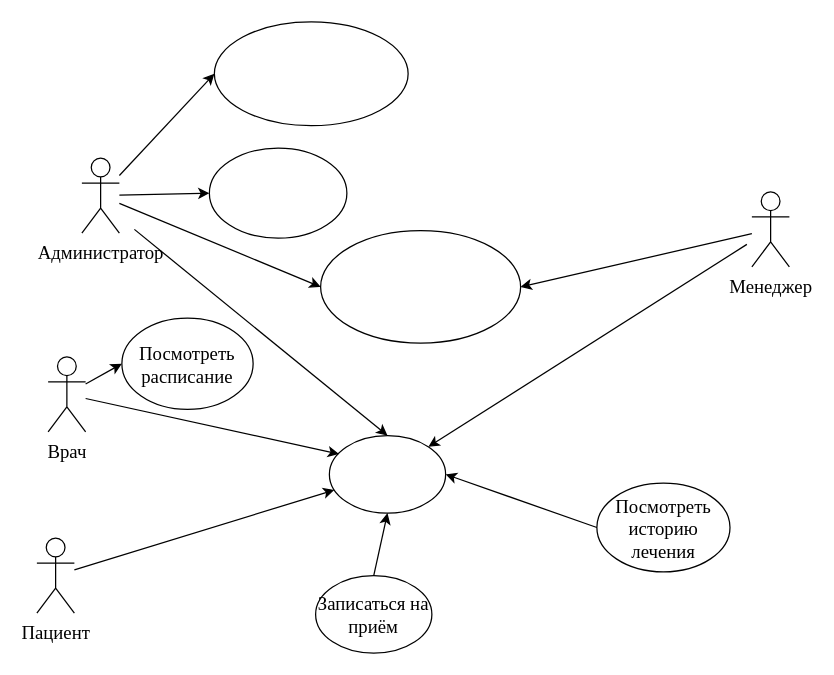
Some shapes in this 834 by 675 pixel diagram are drawn without their labels. The shapes that lost their labels are listed below. From the top down, each one's centre as x and y in pixels, then its label:
At point 310,73: "Просматривать всех пользователей".
At point 277,192: "Удалять пользователей".
At point 420,286: "Просматривать карточки пациентов".
At point 387,473: "Войти в ЛК".
